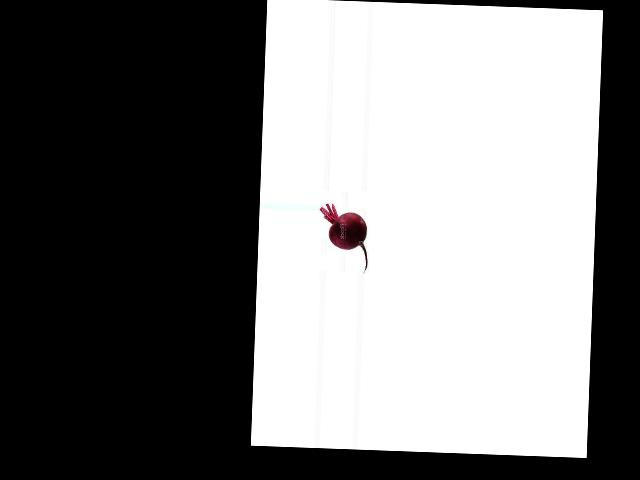beet: (317, 203, 369, 273)
